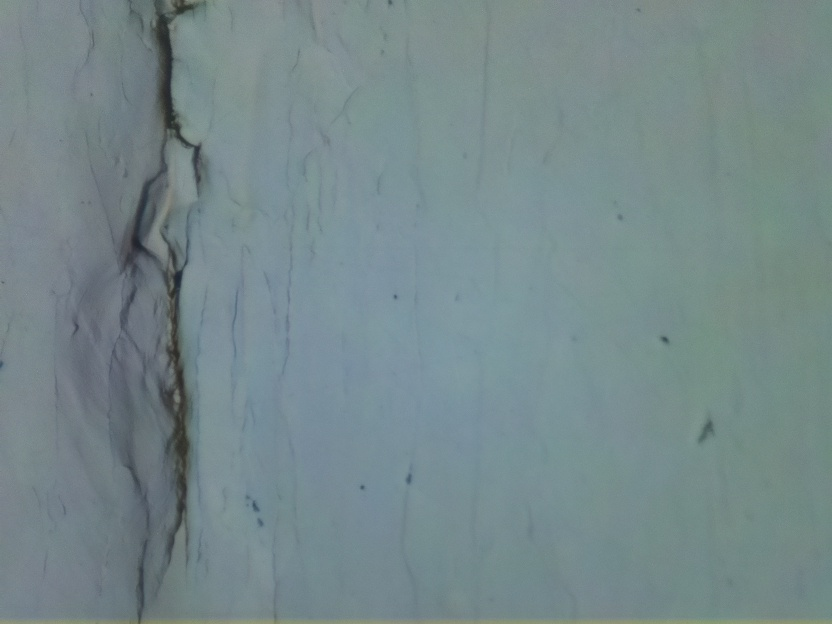crack: (161, 211, 197, 564), (150, 0, 206, 184), (132, 541, 154, 624)
